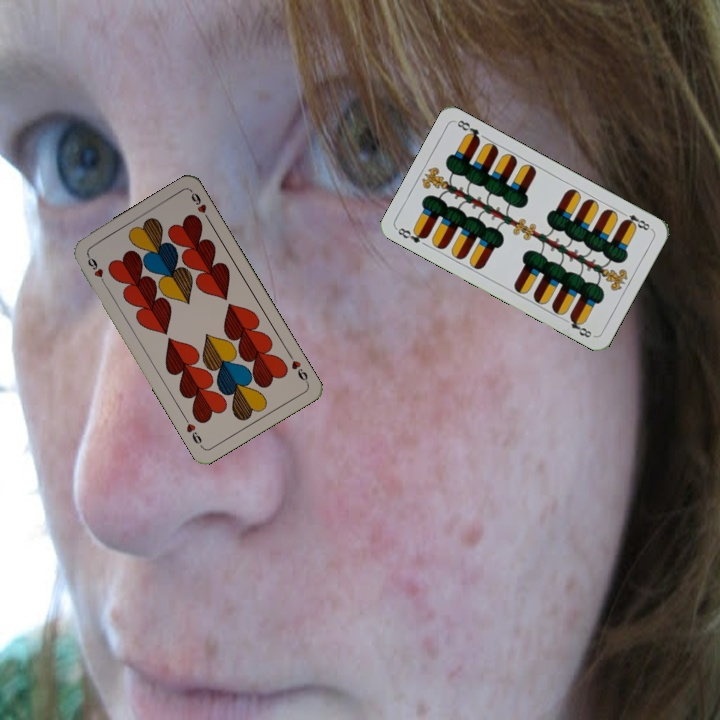E8: (617, 207, 654, 233), (394, 223, 430, 246)
H9: (83, 250, 109, 288), (285, 349, 311, 386)
